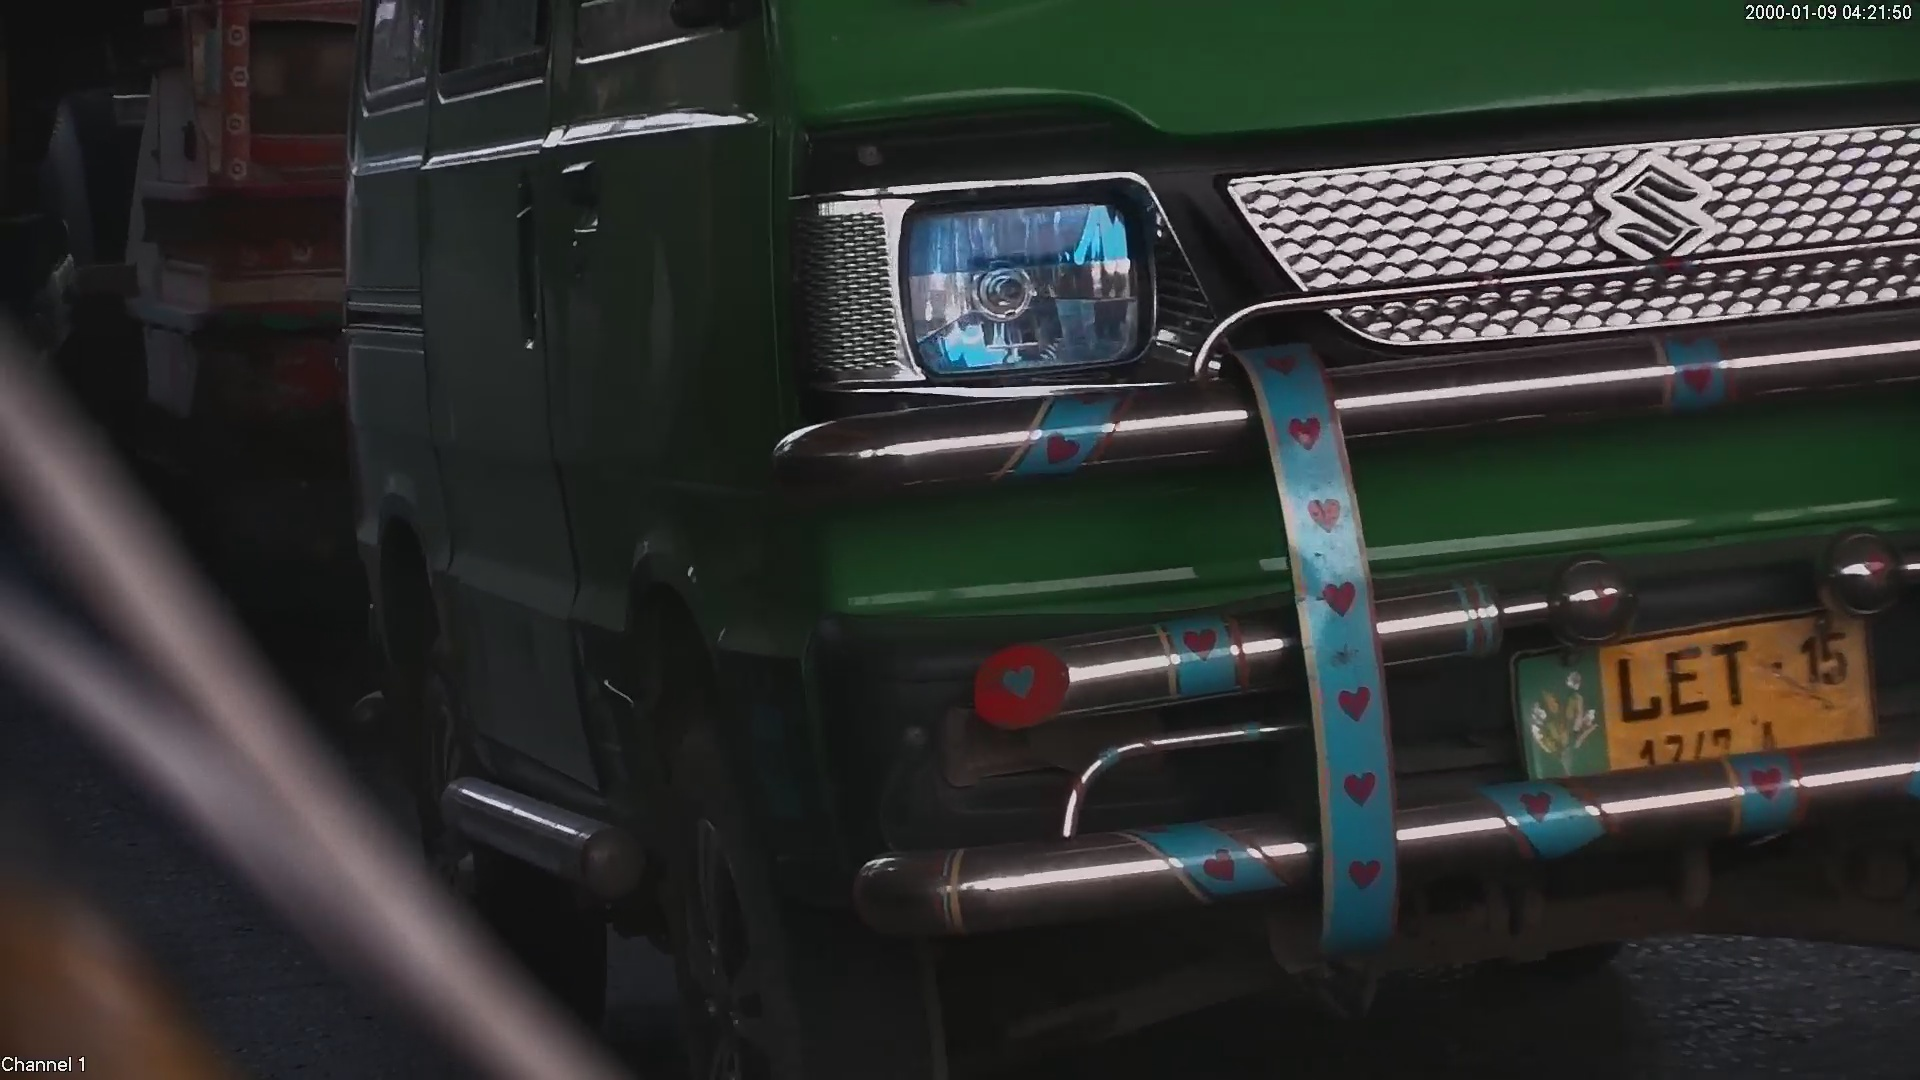Number_Plate: (1467, 590, 1893, 803)
Undefined: (806, 181, 1187, 399), (1571, 133, 1734, 273)
